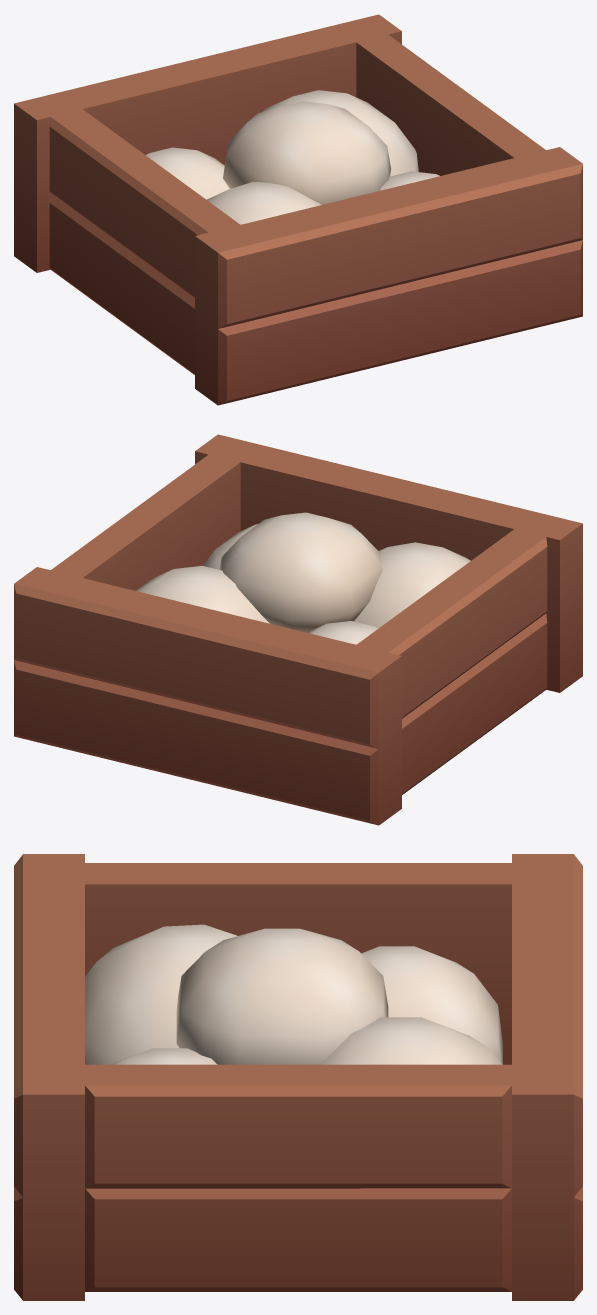
The model's file is crate_dough.obj.
3 views of the same model, one above another, from view 1: azimuth 30°, elevation 25°; view 2: azimuth 150°, elevation 25°; view 3: azimuth 270°, elevation 25° (orthographic). The views are drawn at different scales.
Visible parts, largest first — view 1: crate_dough_Cube.441; view 2: crate_dough_Cube.441; view 3: crate_dough_Cube.441.
Boxes of the visible parts, x1,y1,x2,y2 form: crate_dough_Cube.441: (14, 14, 582, 405); crate_dough_Cube.441: (14, 434, 582, 825); crate_dough_Cube.441: (14, 854, 582, 1300).
Size of the model in its own units: 2 by 0.9323 by 2.
1 material, 1 textured.
